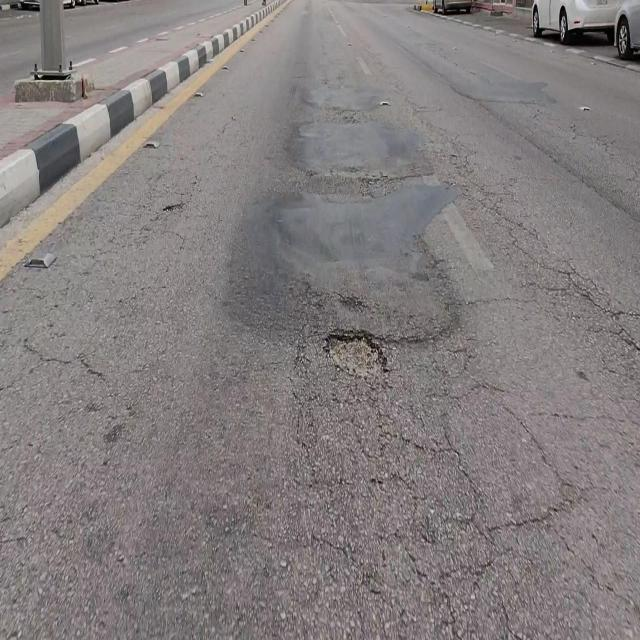Pothole: (325, 332, 387, 377)
